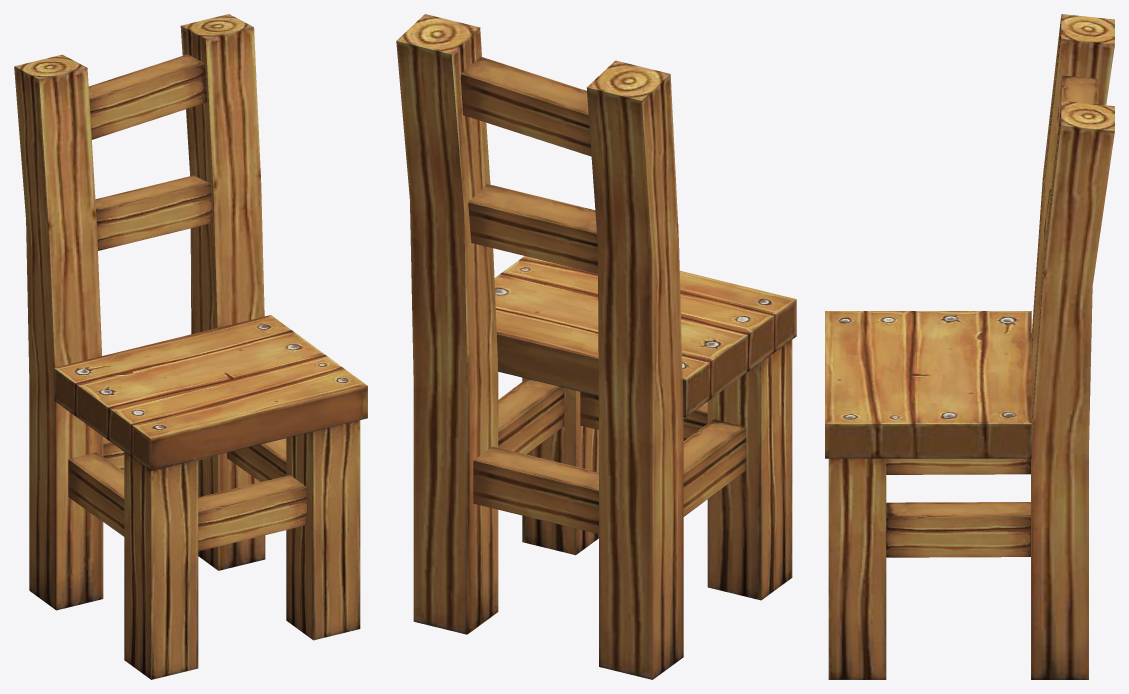
File: SM_Chair_00.gltf
3 views of the same model, side by side, from view 1: azimuth 30°, elevation 25°; view 2: azimuth 150°, elevation 25°; view 3: azimuth 270°, elevation 25° (orthographic). The views are drawn at different scales.
Parts seen in each view (by area): view 1: SM_Chair_00; view 2: SM_Chair_00; view 3: SM_Chair_00.
Part boxes in pixels (x1,y1,x2,y2): SM_Chair_00: (14, 14, 367, 679); SM_Chair_00: (396, 14, 796, 679); SM_Chair_00: (825, 14, 1114, 679).
Size of the model in its own units: 0.3444 by 0.7877 by 0.3725.
Materials: 1 (1 with a texture image).
